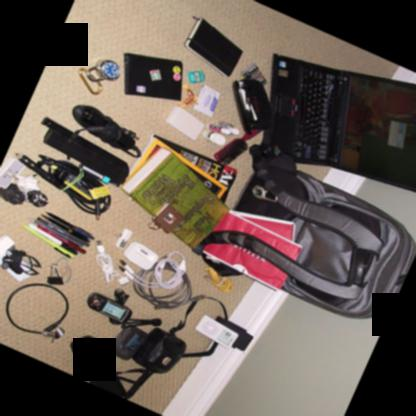backpack: (198, 147, 415, 317)
